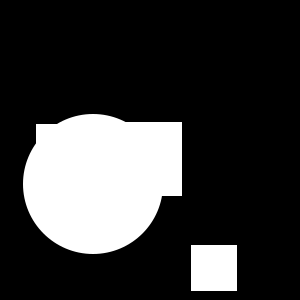circle: (108, 122, 182, 196), (191, 245, 237, 291), (36, 124, 63, 151)
rectangle: (23, 114, 163, 254)
